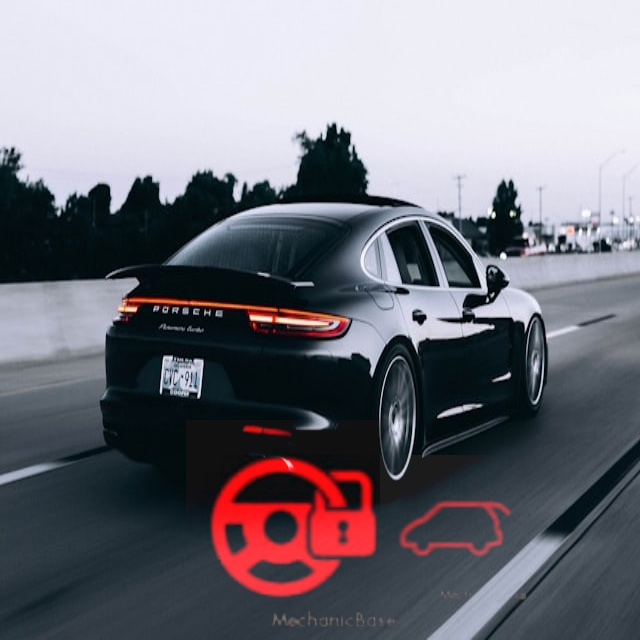symbol: (186, 420, 404, 638), (380, 455, 532, 607)
